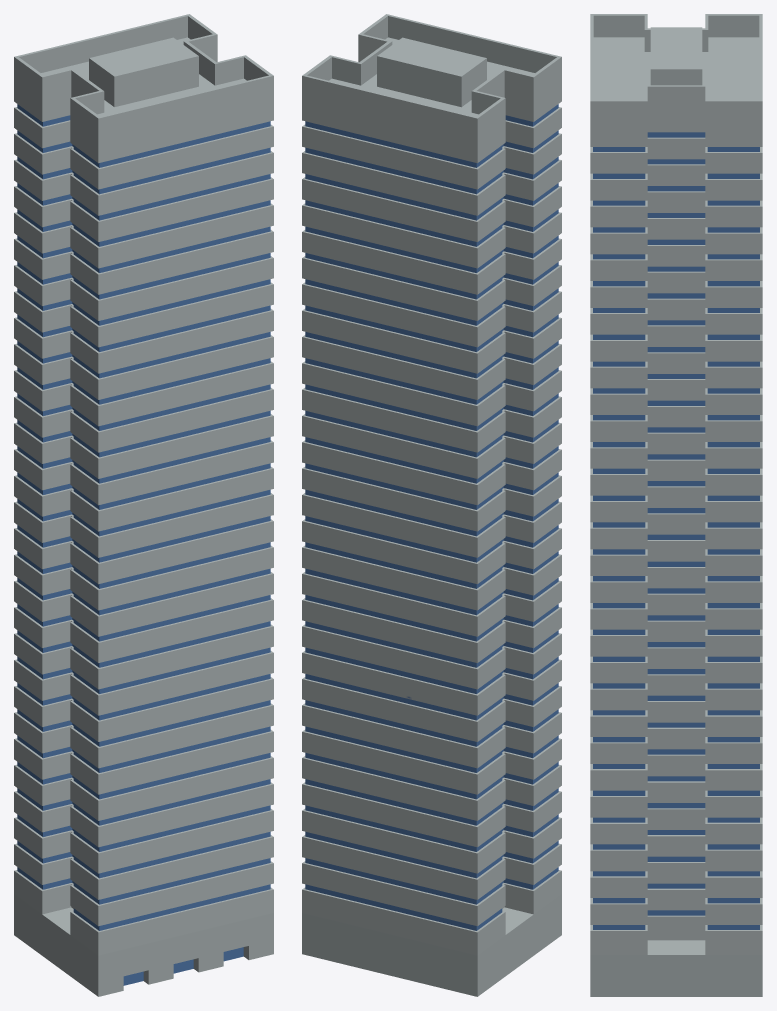
The model's file is bill_001.fbx.
3 renders of one model, left to right at view 1: azimuth 30°, elevation 25°; view 2: azimuth 150°, elevation 25°; view 3: azimuth 270°, elevation 25°, orthographic.
Visible parts, largest first — view 1: 立方体.002; view 2: 立方体.002; view 3: 立方体.002.
Boxes of the visible parts, x1,y1,x2,y2 form: 立方体.002: (14,14,273,996); 立方体.002: (302,14,561,996); 立方体.002: (590,14,762,996).
Size of the model in its own units: 6000 by 29000 by 5000.
1 material, 1 textured.
